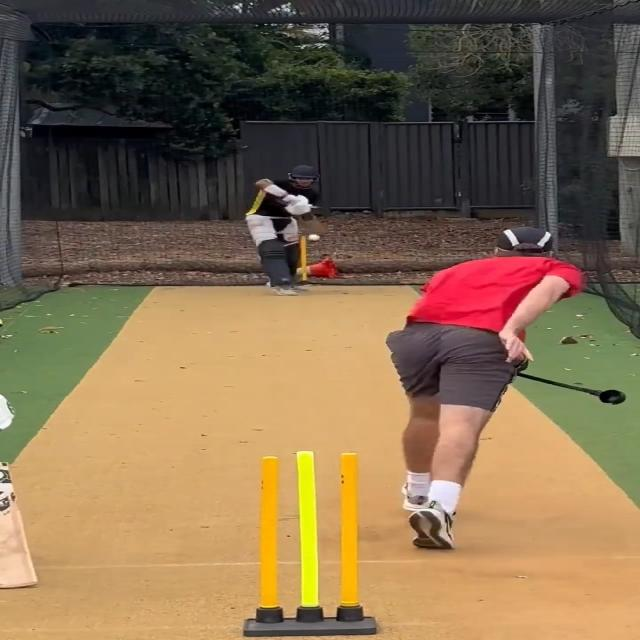ball: (306, 234, 322, 243)
stump: (242, 449, 380, 639)
